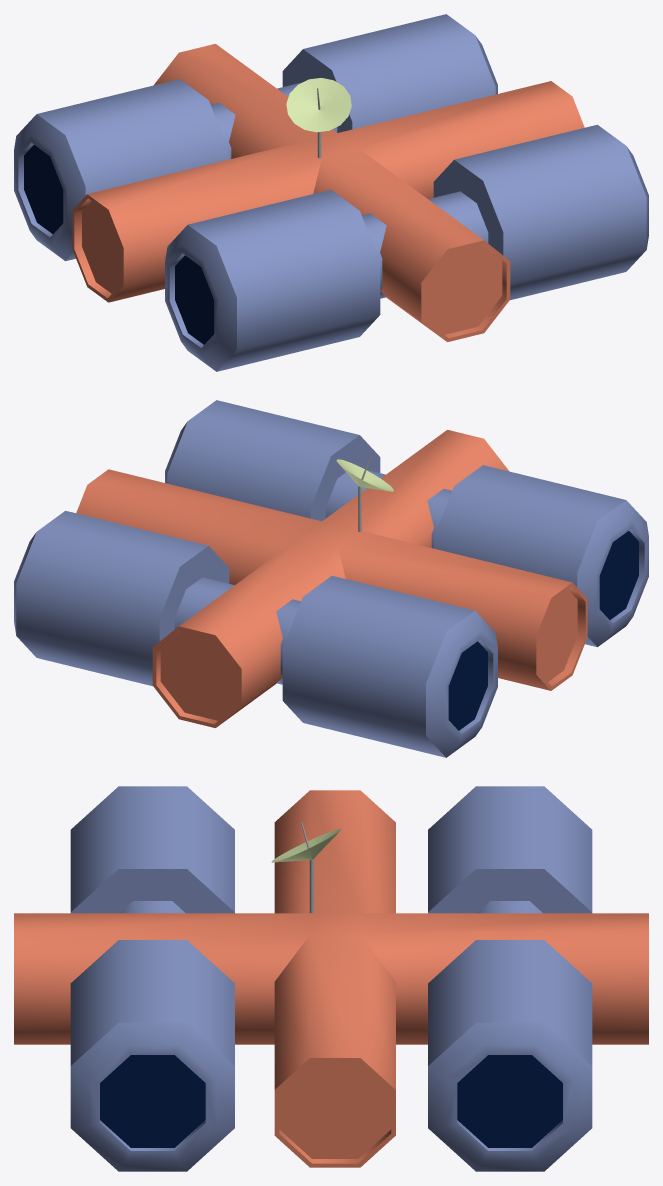
Rendered from Housing.fbx.
The picture shows the model from 3 angles, top to bottom: view 1: azimuth 30°, elevation 25°; view 2: azimuth 150°, elevation 25°; view 3: azimuth 270°, elevation 25°; orthographic projection. The views are drawn at different scales.
Parts seen in each view (by area): view 1: Housing.001; view 2: Housing.001; view 3: Housing.001.
Boxes of the visible parts, left/top/right/bottom form: Housing.001: left=14, top=14, right=648, bottom=371; Housing.001: left=14, top=400, right=648, bottom=757; Housing.001: left=14, top=786, right=648, bottom=1171.
Size of the model in its own units: 1010 by 381 by 1012.
